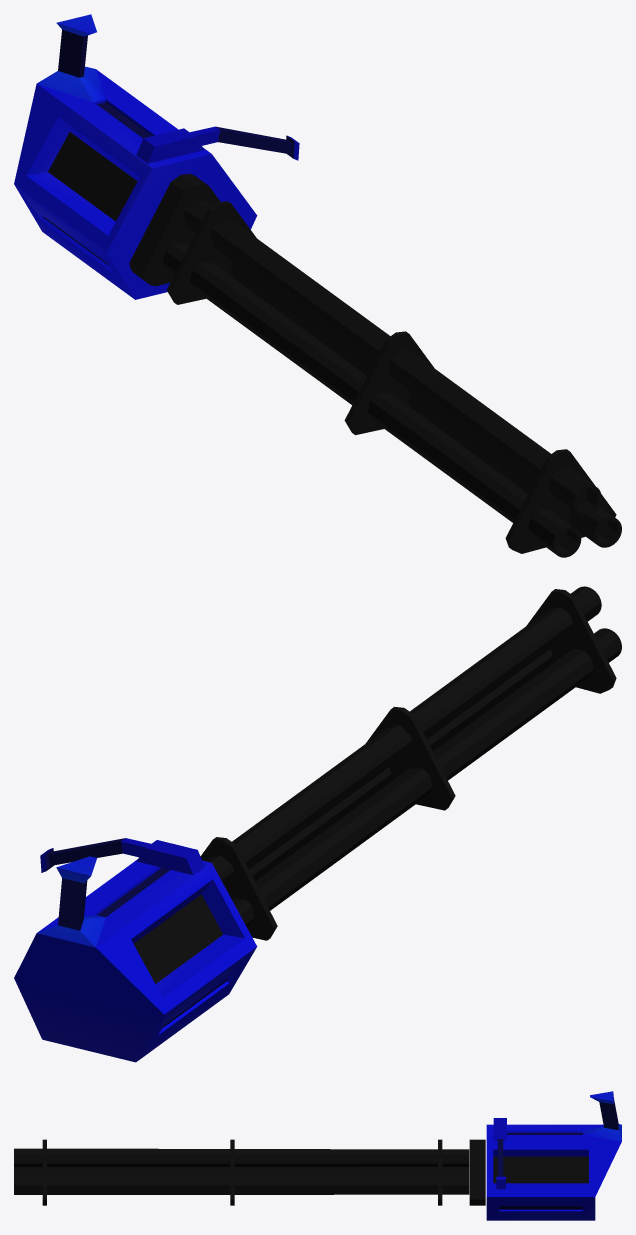
The model's file is gun.gltf.
3 renders of one model, top to bottom at view 1: azimuth 30°, elevation 25°; view 2: azimuth 150°, elevation 25°; view 3: azimuth 270°, elevation 25°, orthographic. The views are drawn at different scales.
Visible parts, largest first — view 1: Barrels, Base; view 2: Barrels, Base; view 3: Barrels, Base.
Boxes of the visible parts, x1,y1,x2,y2 form: Barrels: (129, 174, 621, 557); Base: (14, 14, 299, 299); Barrels: (200, 586, 621, 940); Base: (14, 838, 257, 1062); Barrels: (14, 1139, 485, 1205); Base: (486, 1091, 621, 1220).
Size of the model in its own units: 2.05 by 1.86 by 9.24.
